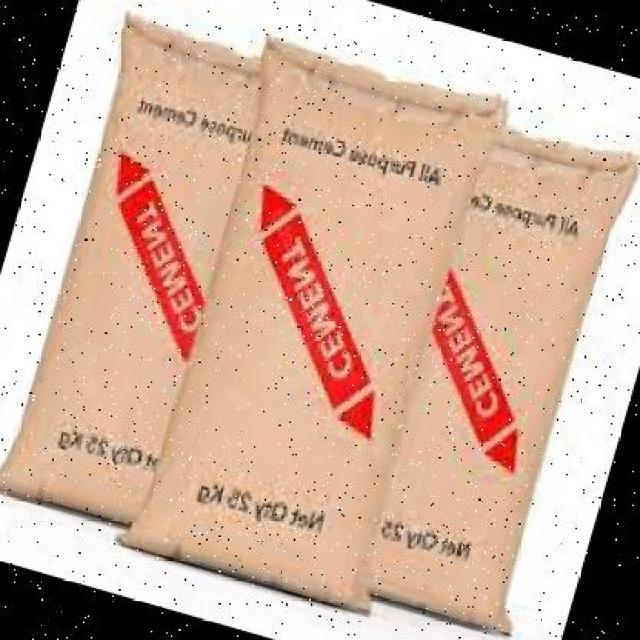gunny_bag: (122, 39, 501, 615), (364, 124, 639, 632), (0, 16, 263, 526)
